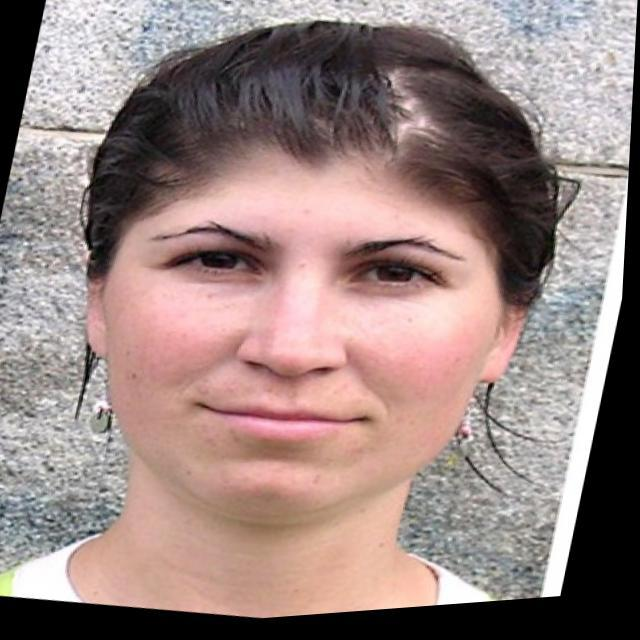Nonhelmet: (71, 17, 572, 524)
